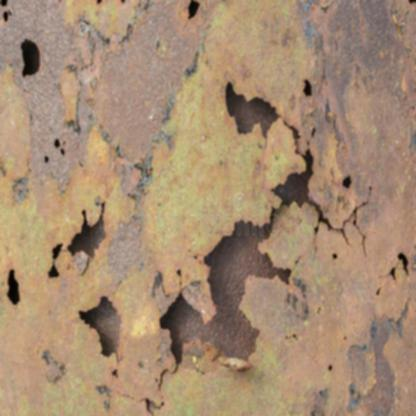burst: (70, 201, 309, 380), (219, 74, 310, 151)
